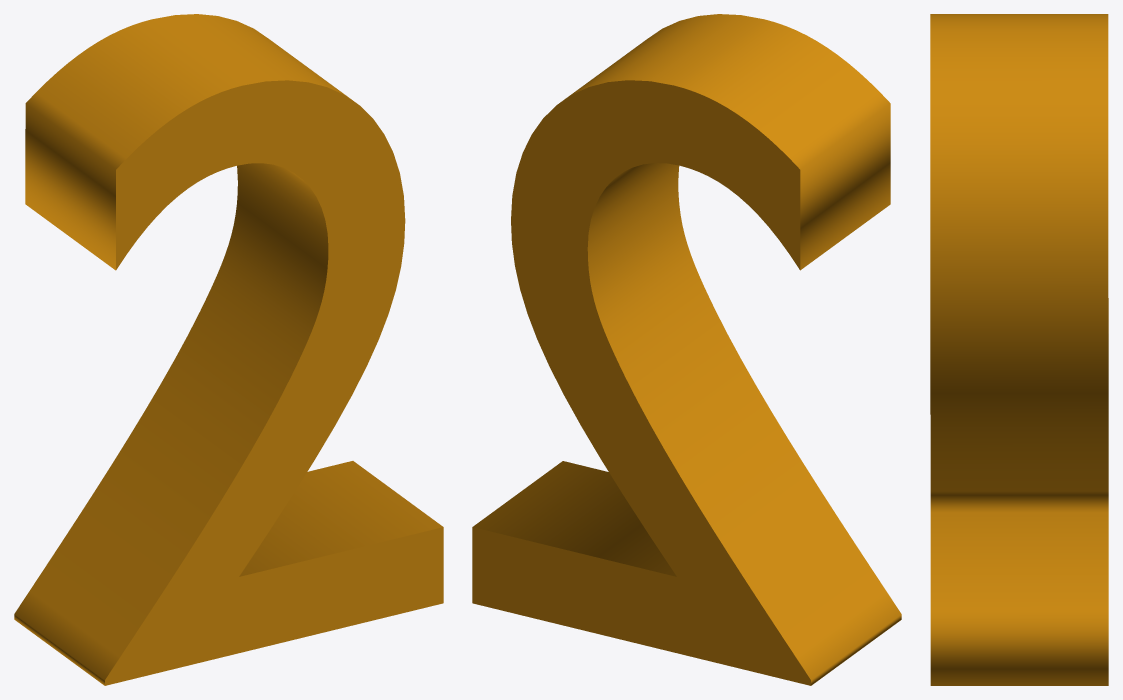
The picture shows the model from 3 angles, left to right: view 1: azimuth 30°, elevation 25°; view 2: azimuth 150°, elevation 25°; view 3: azimuth 270°, elevation 25°; orthographic projection.
Parts seen in each view (by area): view 1: Text; view 2: Text; view 3: Text.
Boxes of the visible parts, bbox=[...] form: Text: bbox=[14, 14, 443, 685]; Text: bbox=[472, 14, 901, 685]; Text: bbox=[930, 14, 1108, 685].
Bounding box in the file's own units: 0.432 × 0.6911 × 0.2004.
